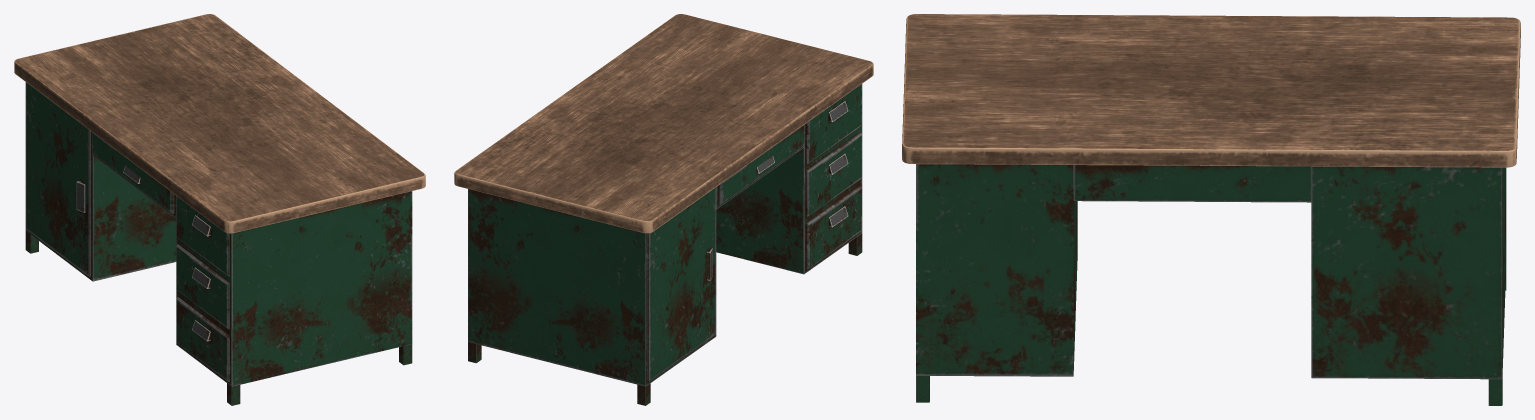
File: escritorio.glb
The picture shows the model from 3 angles, left to right: view 1: azimuth 30°, elevation 25°; view 2: azimuth 150°, elevation 25°; view 3: azimuth 270°, elevation 25°; orthographic projection. The views are drawn at different scales.
Visible parts, largest first — view 1: Metal Desk; view 2: Metal Desk; view 3: Metal Desk.
Boxes of the visible parts, bbox=[...] form: Metal Desk: bbox=[14, 14, 425, 405]; Metal Desk: bbox=[454, 14, 873, 405]; Metal Desk: bbox=[902, 14, 1520, 405].
Size of the model in its own units: 0.4439 by 0.3919 by 0.8392.
Materials: 1 (1 with a texture image).
